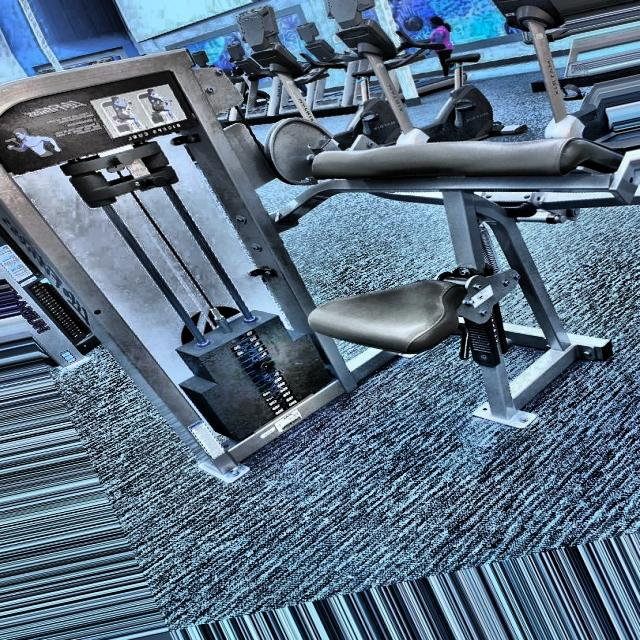bicep_curl_machine: (111, 24, 639, 447)
